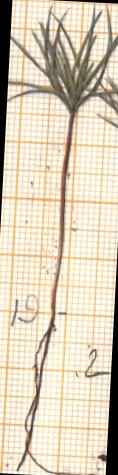flower: (7, 5, 117, 113)
root: (17, 320, 53, 470)
stem: (51, 116, 72, 318)
